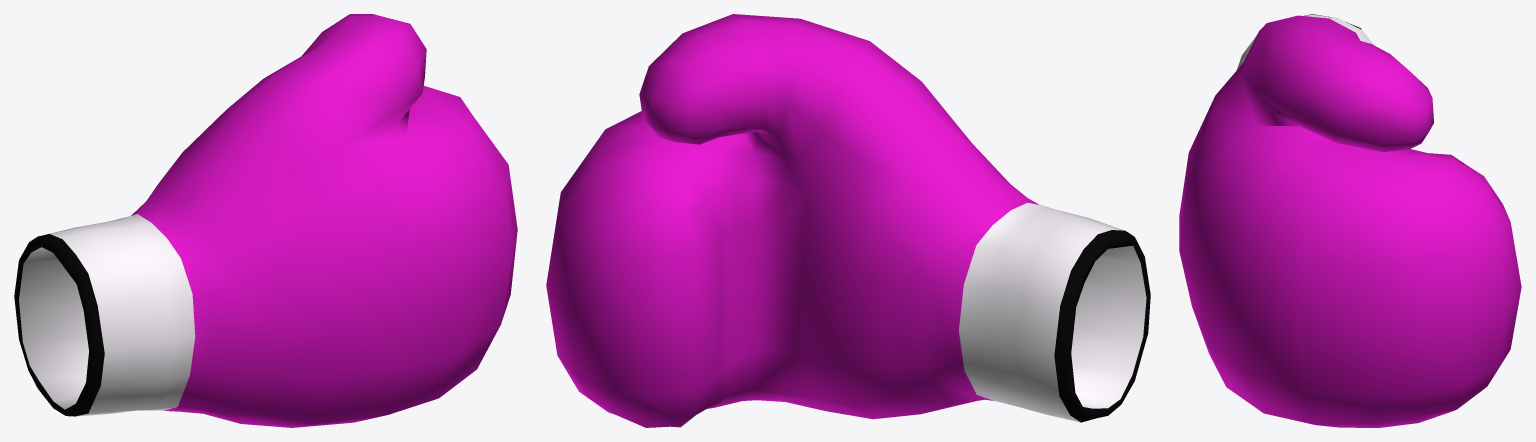
The model's file is RGloves.fbx.
3 views of the same model, side by side, from view 1: azimuth 30°, elevation 25°; view 2: azimuth 150°, elevation 25°; view 3: azimuth 270°, elevation 25° (orthographic). The views are drawn at different scales.
Visible parts, largest first — view 1: Mesh_0771.rip_Tex.001; view 2: Mesh_0771.rip_Tex.001; view 3: Mesh_0771.rip_Tex.001.
Part boxes in pixels (x1,y1,x2,y2): Mesh_0771.rip_Tex.001: (14, 14, 517, 427); Mesh_0771.rip_Tex.001: (546, 14, 1150, 427); Mesh_0771.rip_Tex.001: (1179, 14, 1521, 427).
Size of the model in its own units: 34.8 by 25.4 by 21.9.
